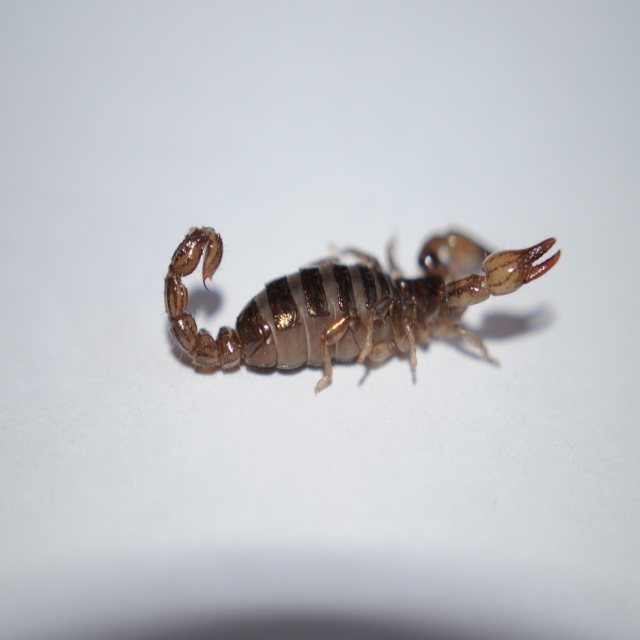Scorpion: (161, 224, 560, 392)
